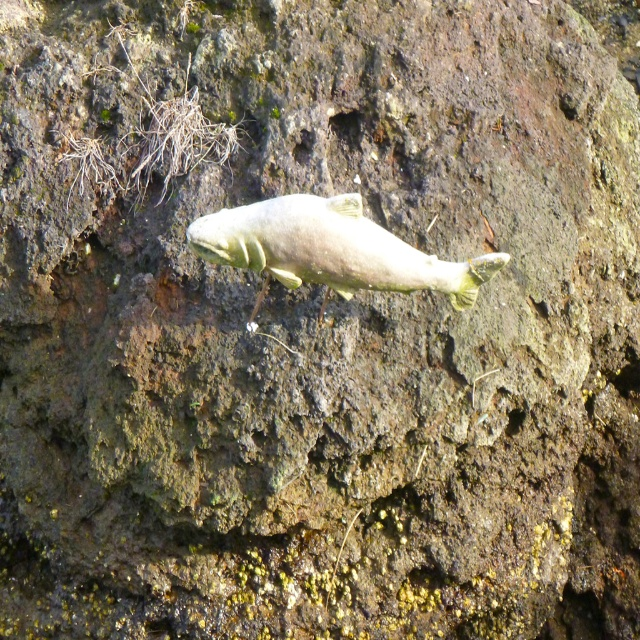Fish: (197, 185, 504, 338)
